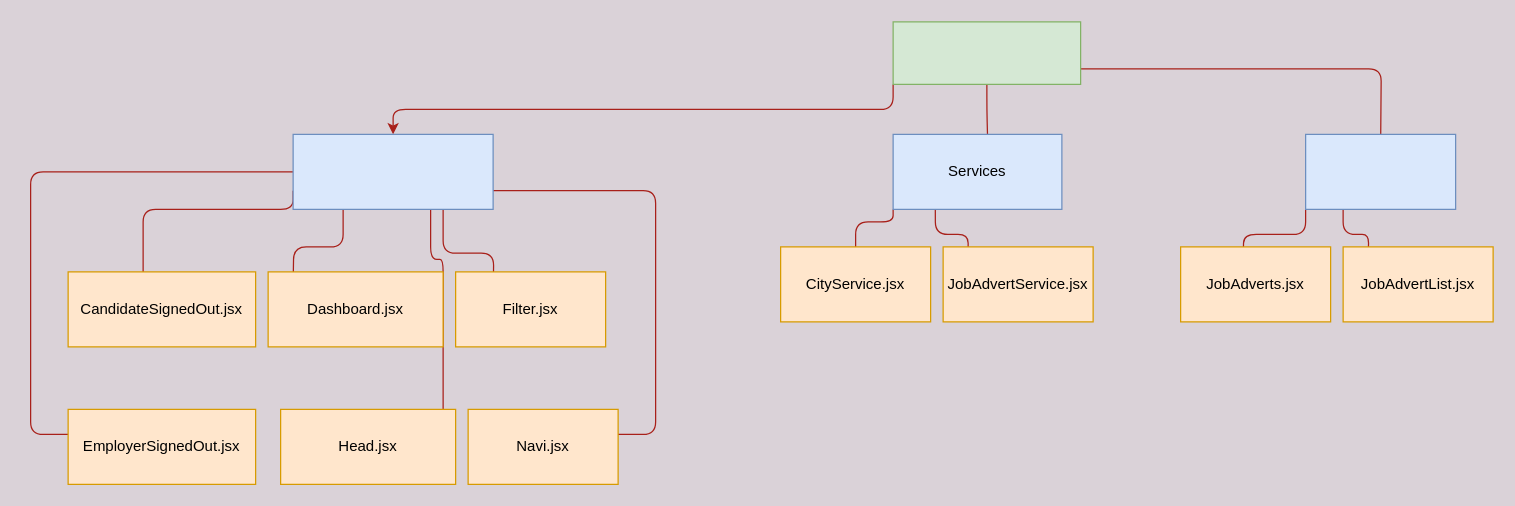
Some shapes in this 1515 by 506 pixel diagram are drawn without their labels. Here are the shapes that lost their labels. From the top down, the centre of each, then its label:
At point (986, 52): "App".
At point (392, 171): "Layouts".
At point (1380, 171): "Pages".
